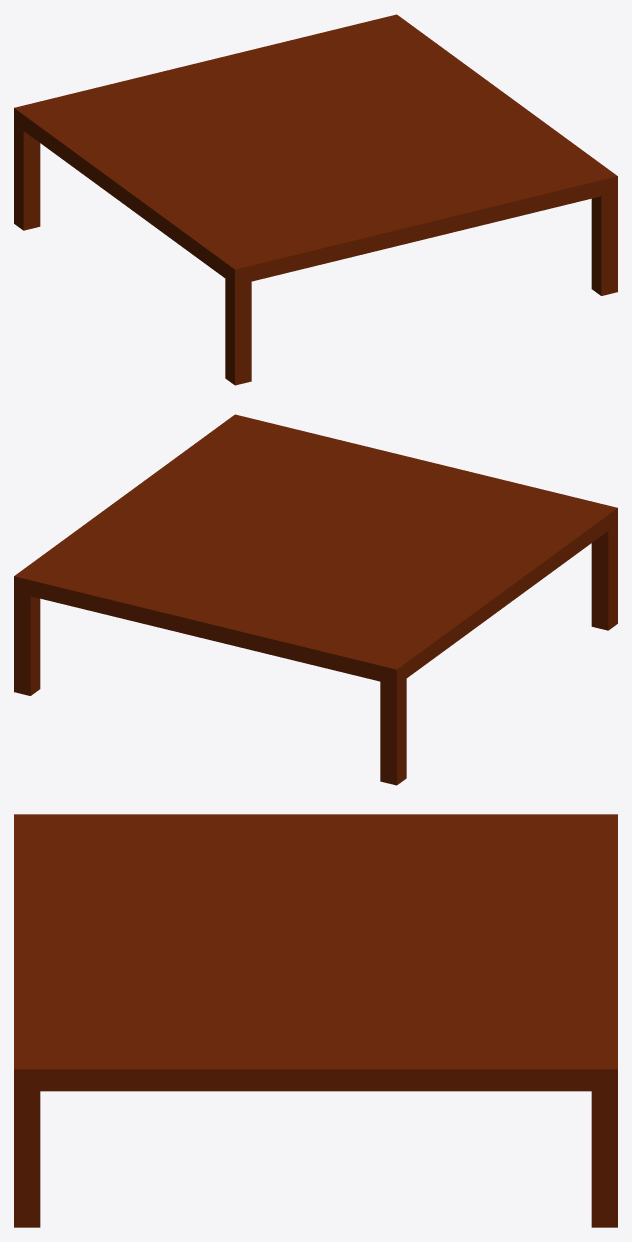
File: mesa.glb
3 views of the same model, one above another, from view 1: azimuth 30°, elevation 25°; view 2: azimuth 150°, elevation 25°; view 3: azimuth 270°, elevation 25° (orthographic). The views are drawn at different scales.
Parts seen in each view (by area): view 1: Mesa; view 2: Mesa; view 3: Mesa.
Part boxes in pixels (left/top/right/bottom): Mesa: left=14, top=14, right=617, bottom=385; Mesa: left=14, top=414, right=617, bottom=785; Mesa: left=14, top=814, right=617, bottom=1227.
Bounding box in the file's own units: 4.01 × 1.16 × 4.01.
